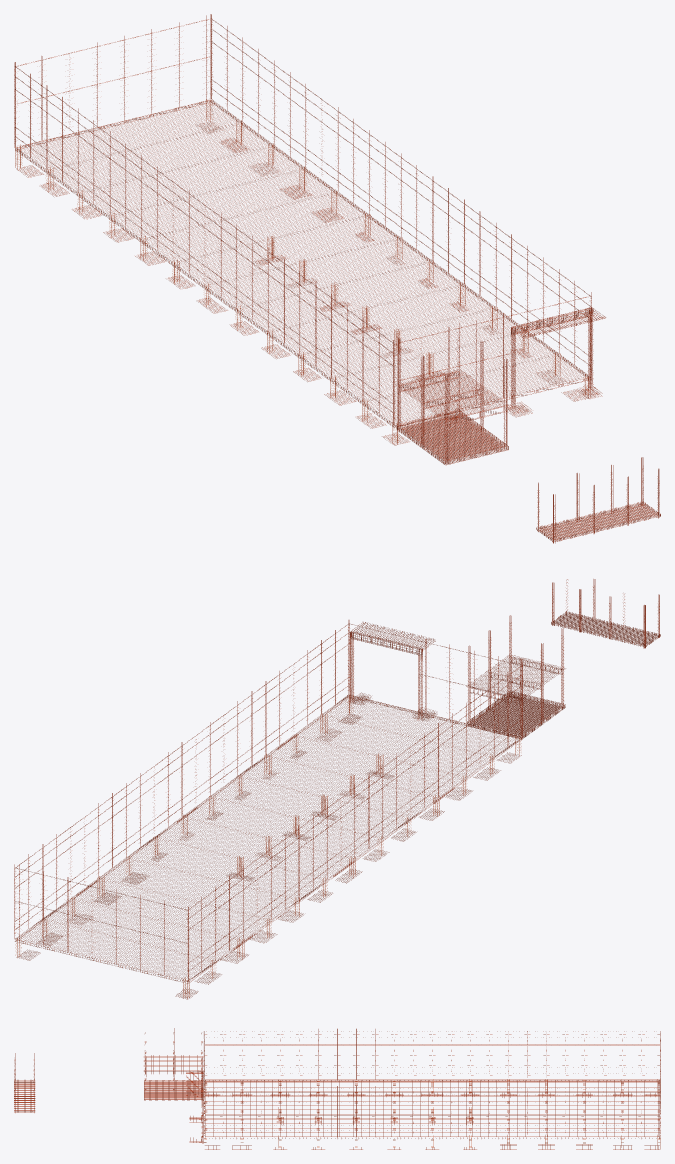
Rendered from tulangan.glb.
3 views of the same model, one above another, from view 1: azimuth 30°, elevation 25°; view 2: azimuth 150°, elevation 25°; view 3: azimuth 270°, elevation 25° (orthographic). The views are drawn at different scales.
Parts seen in each view (by area): view 1: tulangan; view 2: tulangan; view 3: tulangan.
Part boxes in pixels (left/top/right/bottom): tulangan: left=14, top=14, right=660, bottom=543; tulangan: left=14, top=579, right=660, bottom=999; tulangan: left=14, top=1028, right=660, bottom=1149.
Bounding box in the file's own units: 18.29 × 9.42 × 85.05.
